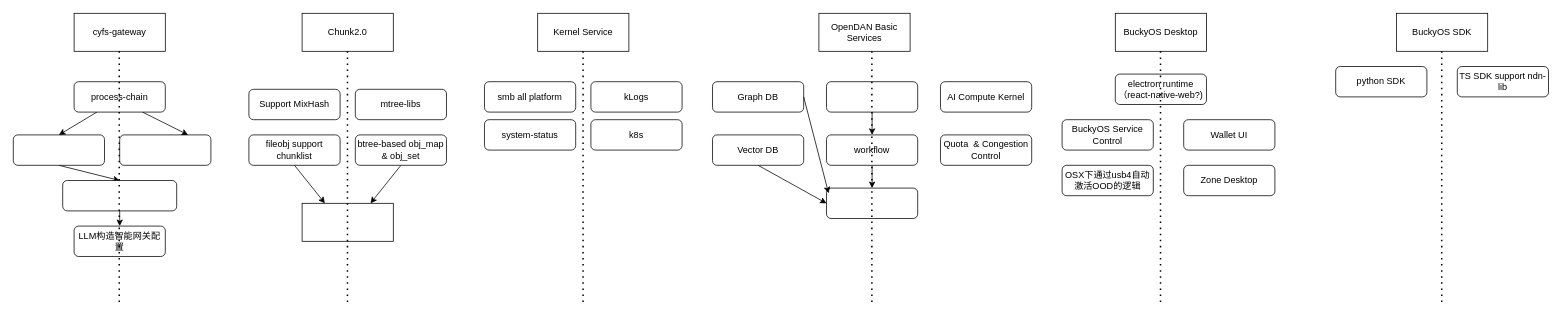
The diagram is 1562 pixels wide and 317 high, and some of its shapes have lost their labels. The box of each missing label's shape, as (x1, y1, x2, y2) in pixels:
kMQ: (826, 81, 918, 112)
knowledge-base piplines: (826, 187, 918, 218)
System Backup & Restore: (301, 203, 393, 241)
智能网关 （替代生产环境openwrt): (62, 180, 177, 211)
正确支持https: (119, 134, 211, 165)
语义配置编译成process chain: (13, 134, 104, 165)
